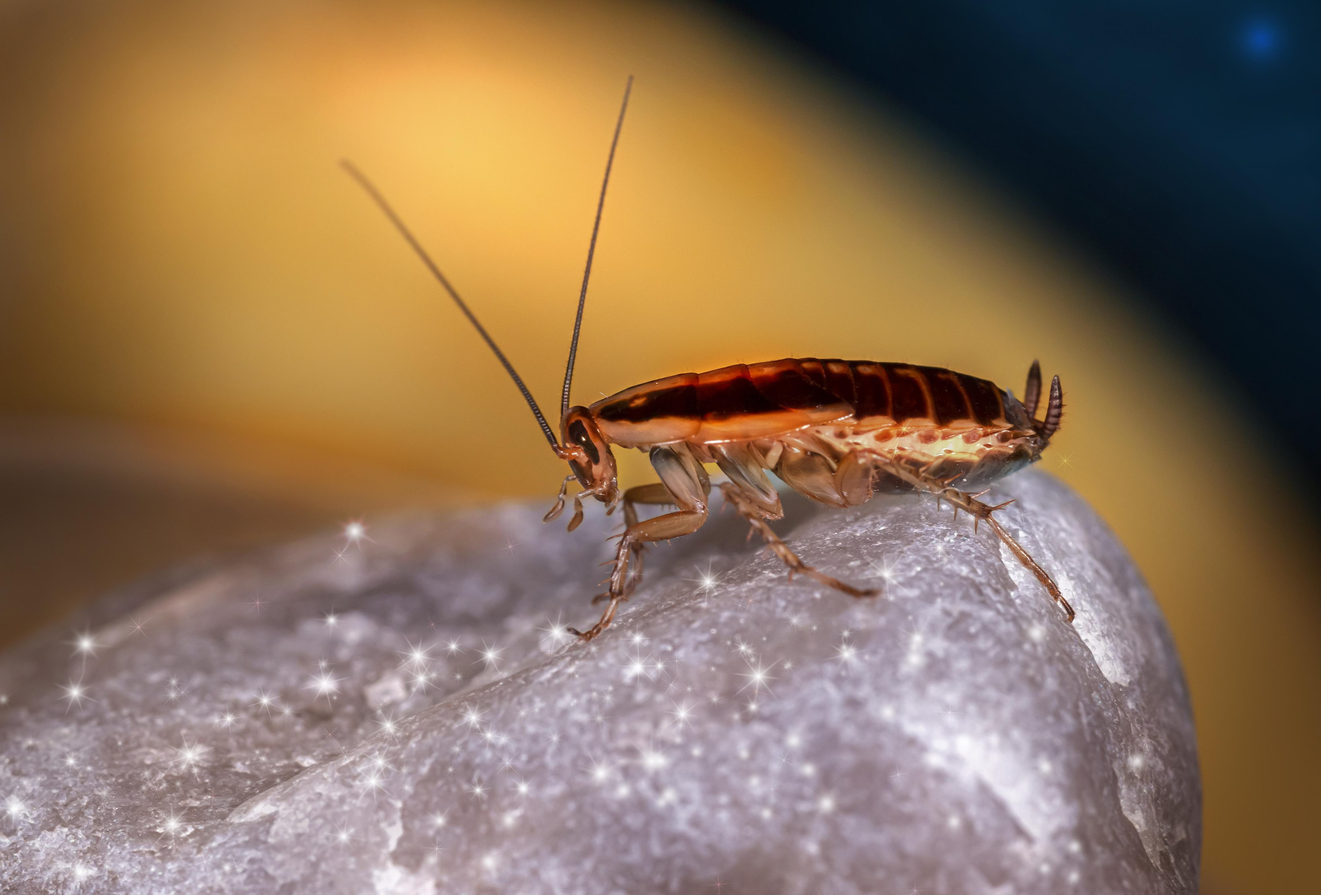cockroach: (524, 344, 1075, 621)
